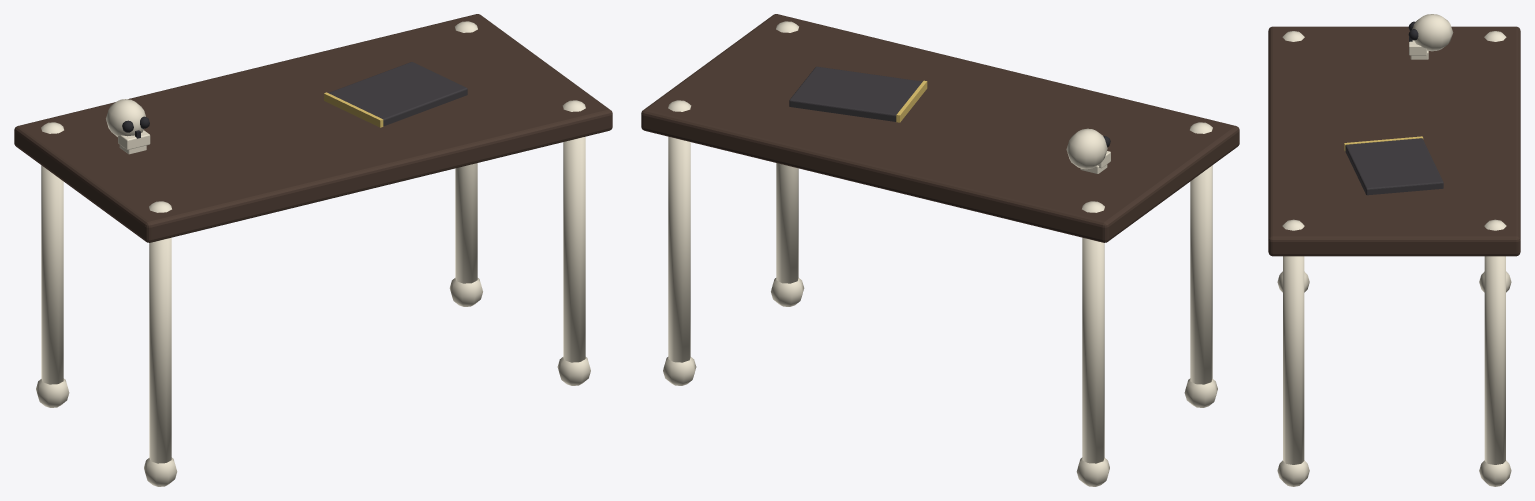
File: desk_bone.glb
The picture shows the model from 3 angles, left to right: view 1: azimuth 30°, elevation 25°; view 2: azimuth 150°, elevation 25°; view 3: azimuth 270°, elevation 25°; orthographic projection. The views are drawn at different scales.
Parts seen in each view (by area): view 1: GD_desk_bone__m0, GD_desk_bone__m1, GD_desk_bone__m4; view 2: GD_desk_bone__m0, GD_desk_bone__m1, GD_desk_bone__m4; view 3: GD_desk_bone__m0, GD_desk_bone__m1, GD_desk_bone__m4.
Boxes of the visible parts, <box> form: GD_desk_bone__m0: <box>14,14,612,242</box>; GD_desk_bone__m1: <box>36,21,590,486</box>; GD_desk_bone__m4: <box>328,62,467,126</box>; GD_desk_bone__m0: <box>641,14,1239,242</box>; GD_desk_bone__m1: <box>663,21,1217,486</box>; GD_desk_bone__m4: <box>789,66,922,121</box>; GD_desk_bone__m0: <box>1268,26,1520,256</box>; GD_desk_bone__m1: <box>1277,14,1511,486</box>; GD_desk_bone__m4: <box>1345,138,1443,195</box>.
Bounding box in the file's own units: 1.4 × 0.917 × 0.7.
